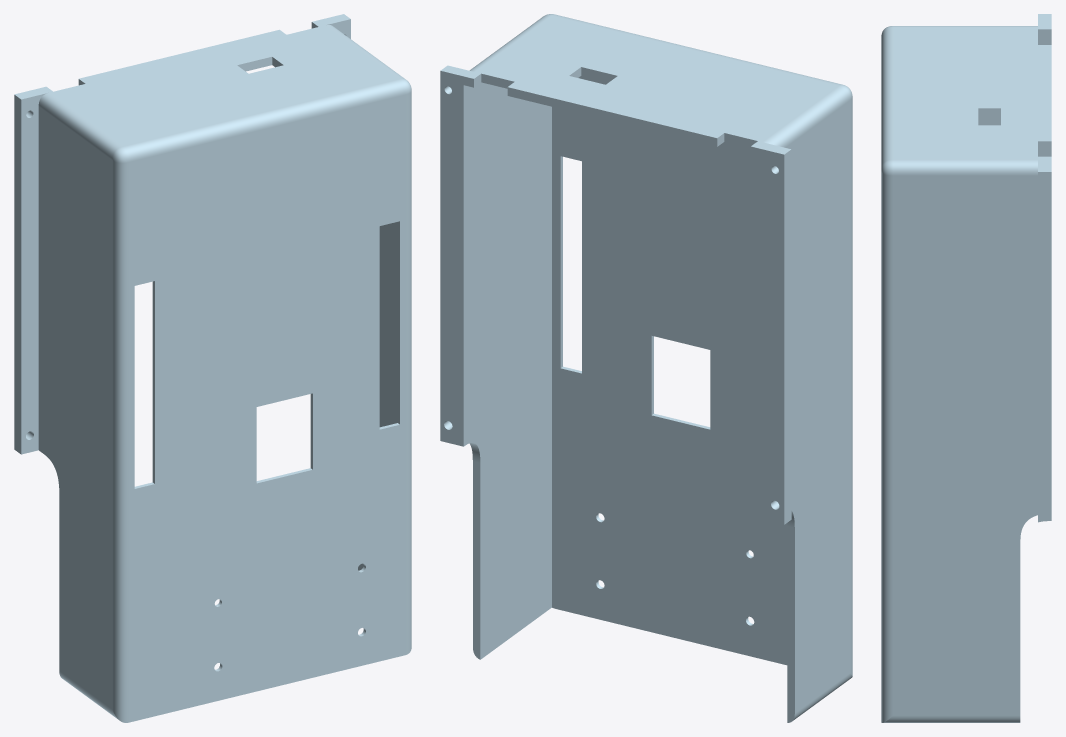
File: Robot_Master Copy 1 - Part 1 (31).gltf
3 views of the same model, side by side, from view 1: azimuth 30°, elevation 25°; view 2: azimuth 150°, elevation 25°; view 3: azimuth 270°, elevation 25° (orthographic). The views are drawn at different scales.
Parts seen in each view (by area): view 1: Part 1; view 2: Part 1; view 3: Part 1.
Boxes of the visible parts, <box> form: Part 1: <box>14,14,411,722</box>; Part 1: <box>440,14,852,722</box>; Part 1: <box>881,14,1051,722</box>.
Bounding box in the file's own units: 0.082 × 0.1358 × 0.0374.
